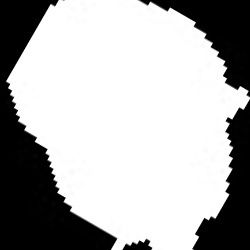spot: (5, 1, 250, 248)
